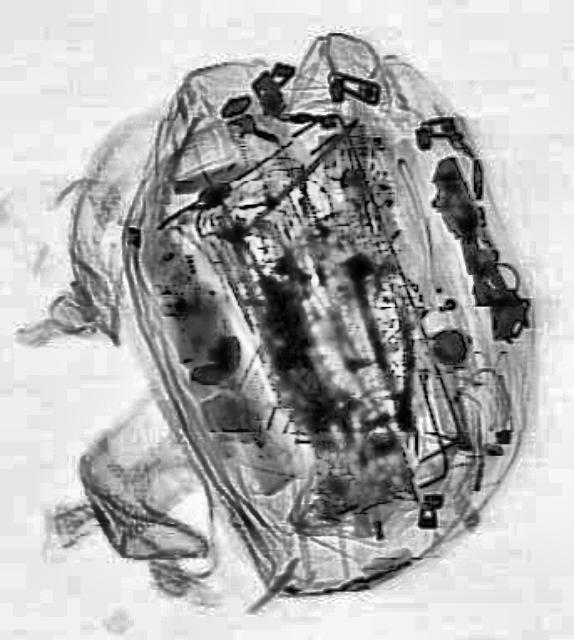Pliers: (352, 261, 427, 434)
